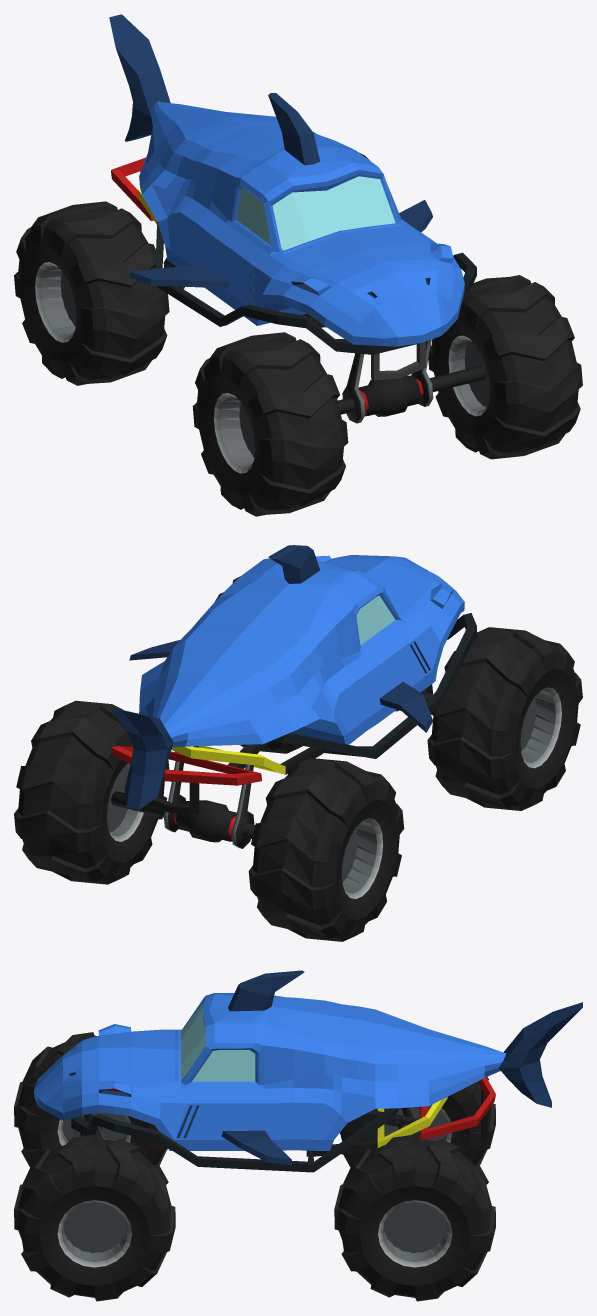
Rendered from truck 3.fbx.
The picture shows the model from 3 angles, top to bottom: view 1: azimuth 30°, elevation 25°; view 2: azimuth 150°, elevation 25°; view 3: azimuth 270°, elevation 25°; orthographic projection. The views are drawn at different scales.
Parts seen in each view (by area): view 1: Monster_Truck_Body_13_Shark_0, Wheel_FR_13_Shark_0, Wheel_RR_13_Shark_0, Wheel_FL_13_Shark_0; view 2: Monster_Truck_Body_13_Shark_0, Wheel_RR_13_Shark_0, Wheel_FR_13_Shark_0, Wheel_RL_13_Shark_0; view 3: Monster_Truck_Body_13_Shark_0, Wheel_FL_13_Shark_0, Wheel_RL_13_Shark_0, Wheel_FR_13_Shark_0, Wheel_RR_13_Shark_0.
Boxes of the visible parts, x1=… form: Monster_Truck_Body_13_Shark_0: x1=109, y1=14, x2=486, y2=423; Wheel_FR_13_Shark_0: x1=192, y1=332, x2=348, y2=516; Wheel_RR_13_Shark_0: x1=14, y1=201, x2=169, y2=385; Wheel_FL_13_Shark_0: x1=428, y1=275, x2=582, y2=459; Monster_Truck_Body_13_Shark_0: x1=109, y1=545, x2=476, y2=848; Wheel_RR_13_Shark_0: x1=248, y1=758, x2=404, y2=941; Wheel_FR_13_Shark_0: x1=427, y1=627, x2=582, y2=810; Wheel_RL_13_Shark_0: x1=14, y1=700, x2=169, y2=884; Monster_Truck_Body_13_Shark_0: x1=34, y1=970, x2=582, y2=1172; Wheel_FL_13_Shark_0: x1=14, y1=1134, x2=175, y2=1301; Wheel_RL_13_Shark_0: x1=334, y1=1134, x2=495, y2=1301; Wheel_FR_13_Shark_0: x1=14, y1=1032, x2=168, y2=1167; Wheel_RR_13_Shark_0: x1=340, y1=1076, x2=495, y2=1167.
Size of the model in its own units: 33.9 by 30.6 by 58.99.
Materials: 1 (1 with a texture image).
